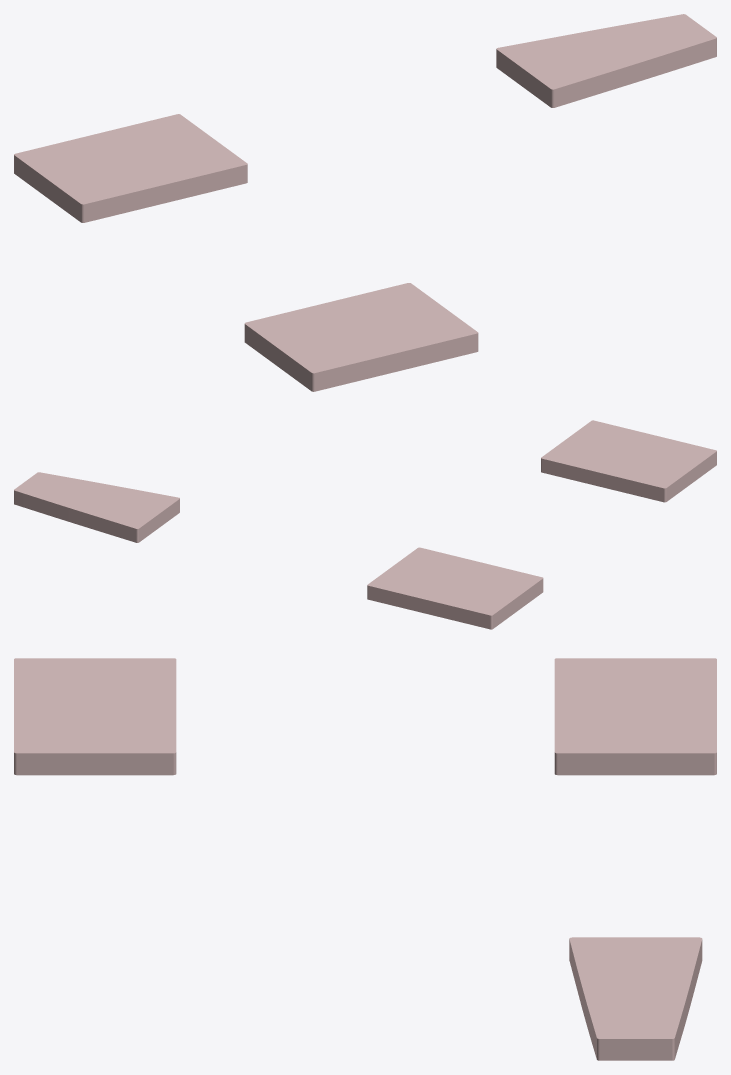
File: OUTFITTING_INTERIOR__INT. FURNISHING__mattress.glb
The picture shows the model from 3 angles, top to bottom: view 1: azimuth 30°, elevation 25°; view 2: azimuth 150°, elevation 25°; view 3: azimuth 270°, elevation 25°; orthographic projection. The views are drawn at different scales.
Parts seen in each view (by area): view 1: mattress; view 2: mattress; view 3: mattress.
Boxes of the visible parts, bbox=[...] form: mattress: bbox=[14, 14, 716, 391]; mattress: bbox=[14, 420, 716, 629]; mattress: bbox=[14, 658, 716, 1060].
Size of the model in its own units: 7.48 by 0.2668 by 5.94.
